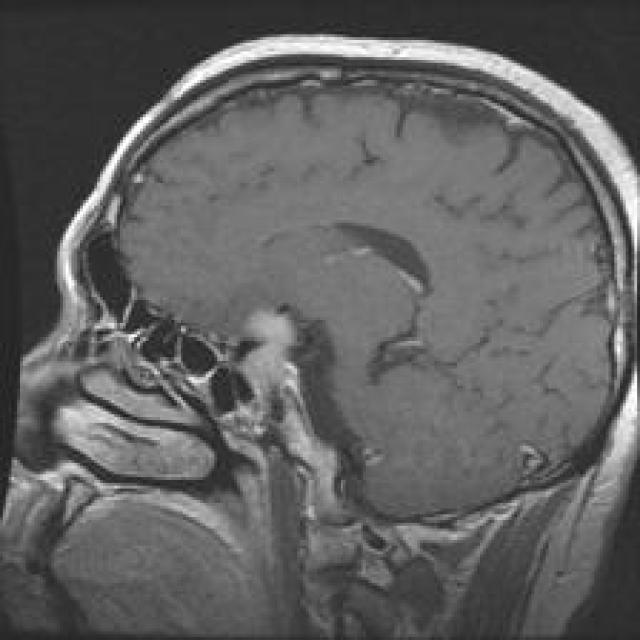pituitary_tumor: (208, 280, 341, 464)
